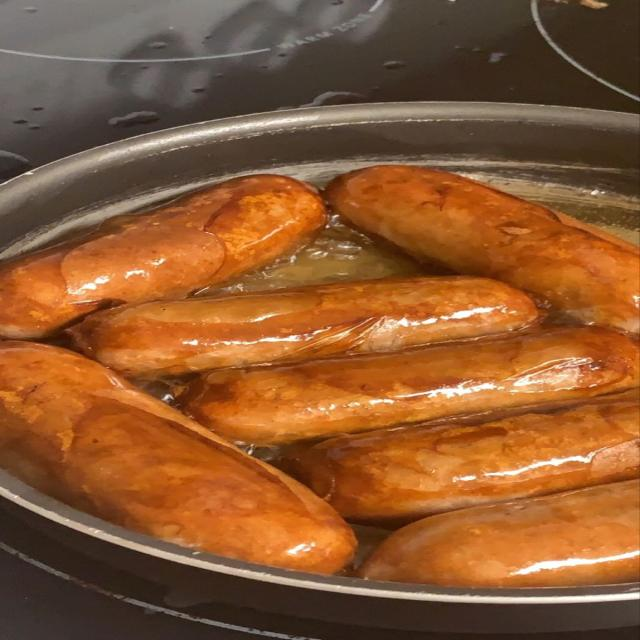sausage: (0, 342, 355, 573), (181, 326, 639, 444), (0, 175, 325, 338), (326, 166, 639, 332), (284, 390, 639, 523), (69, 277, 540, 375), (360, 480, 639, 587)
